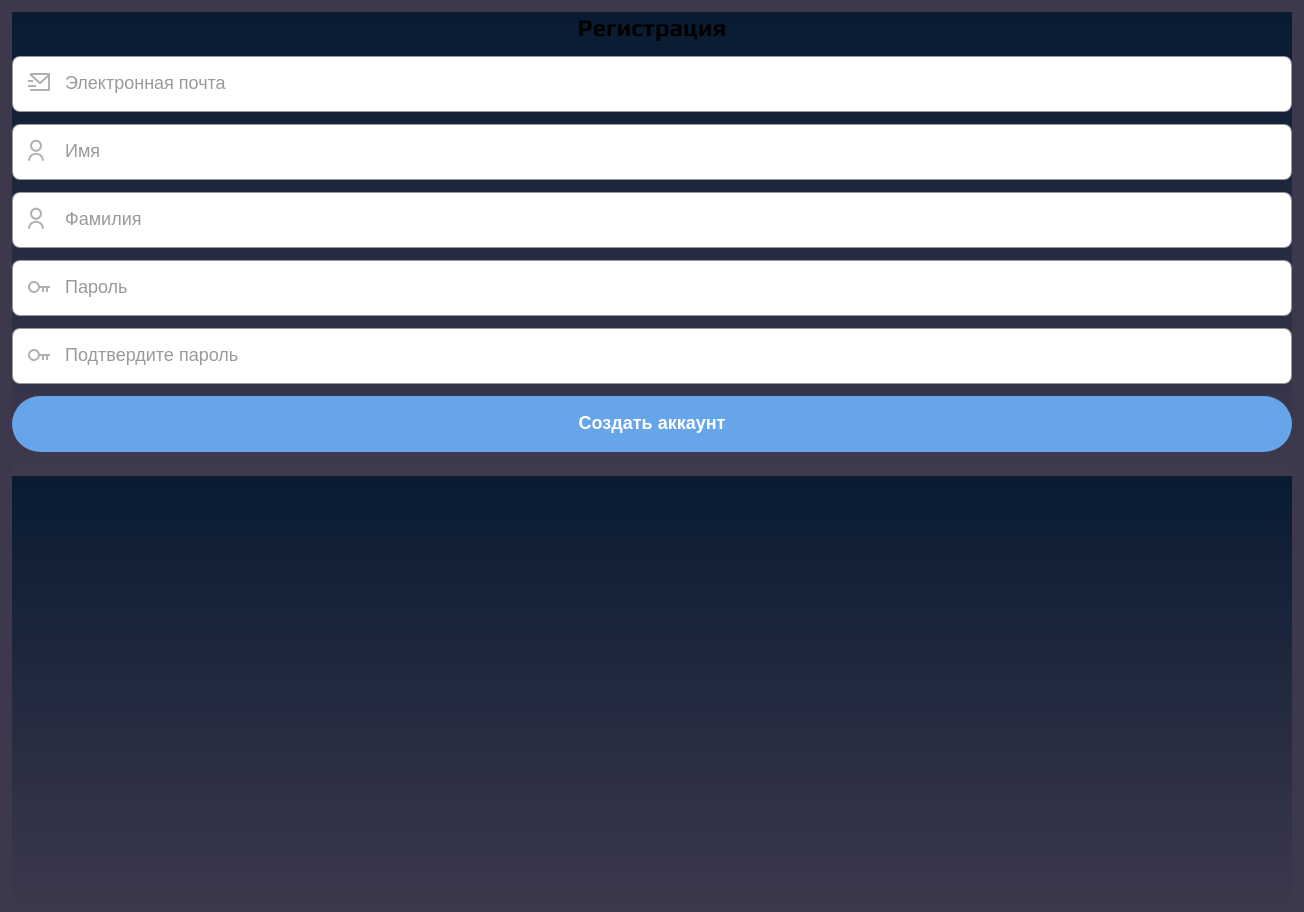
Test case: RegisterForm › shows validation error for incorrect email format
In the field with placeholder "Электронная почта": (652, 84) 12,56 -> 1292,112, type "invalid-email"
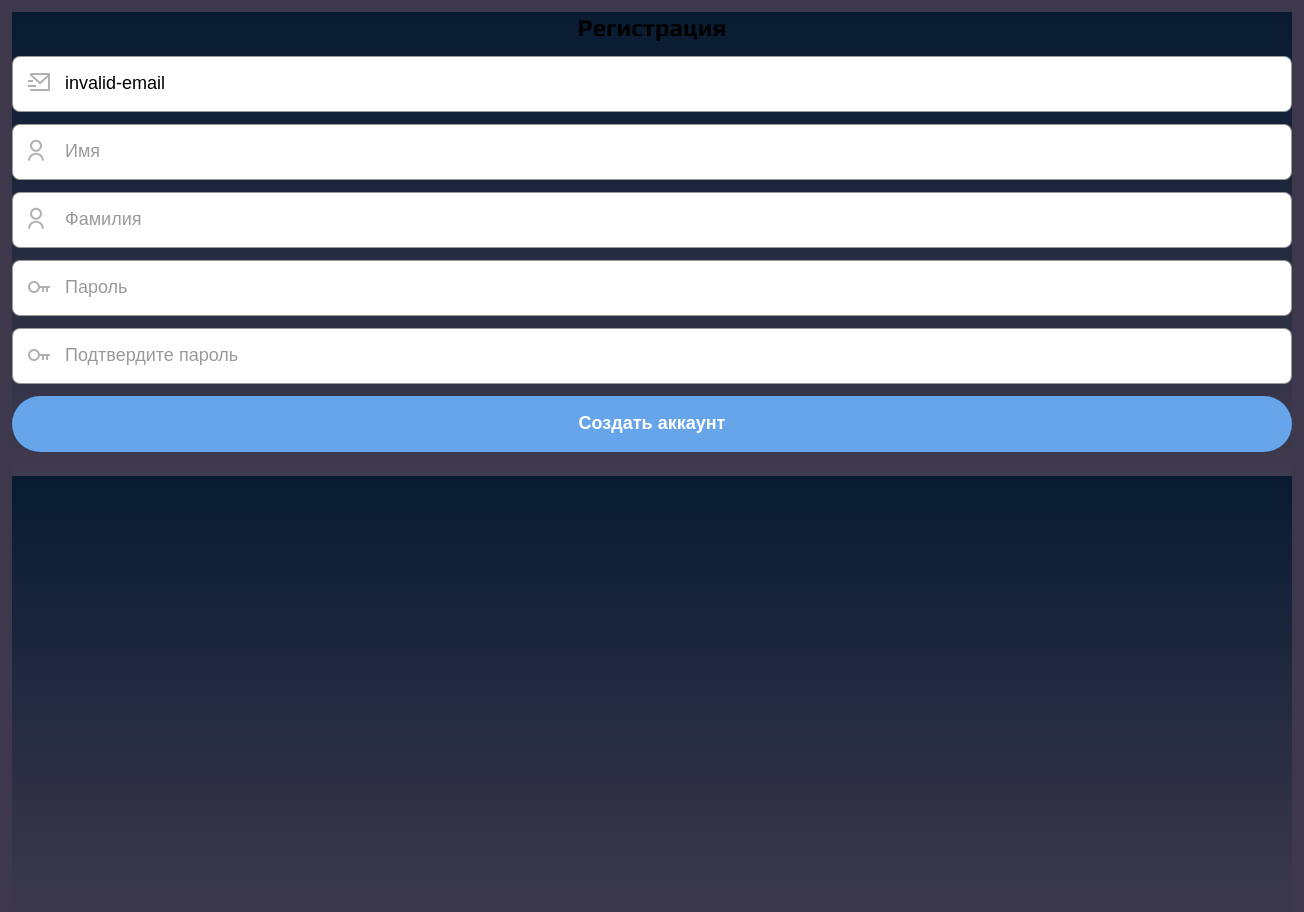
In the field with placeholder "Имя": (652, 152) 12,124 -> 1292,180, type "John"
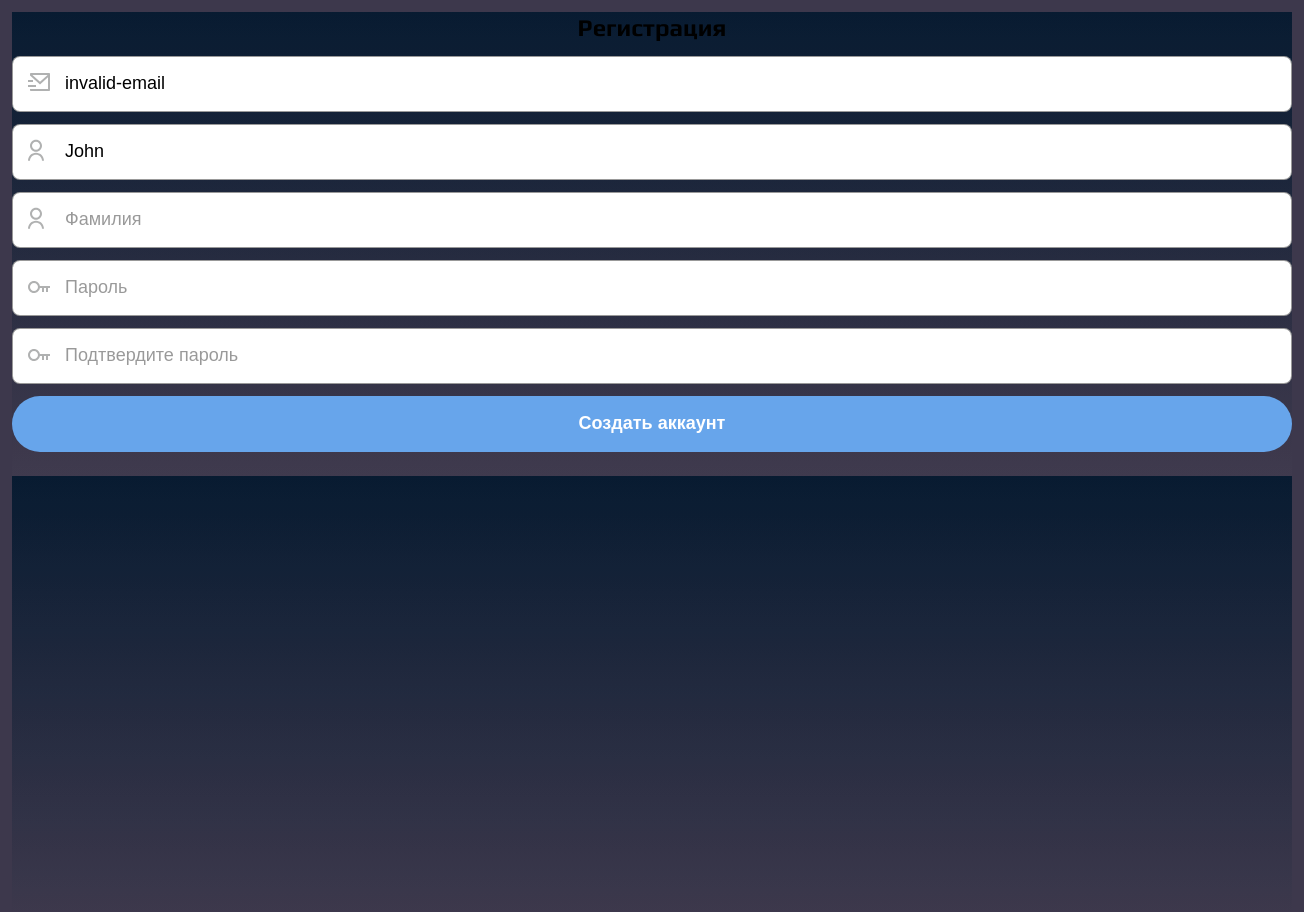
In the field with placeholder "Фамилия": (652, 220) 12,192 -> 1292,248, type "Doe"
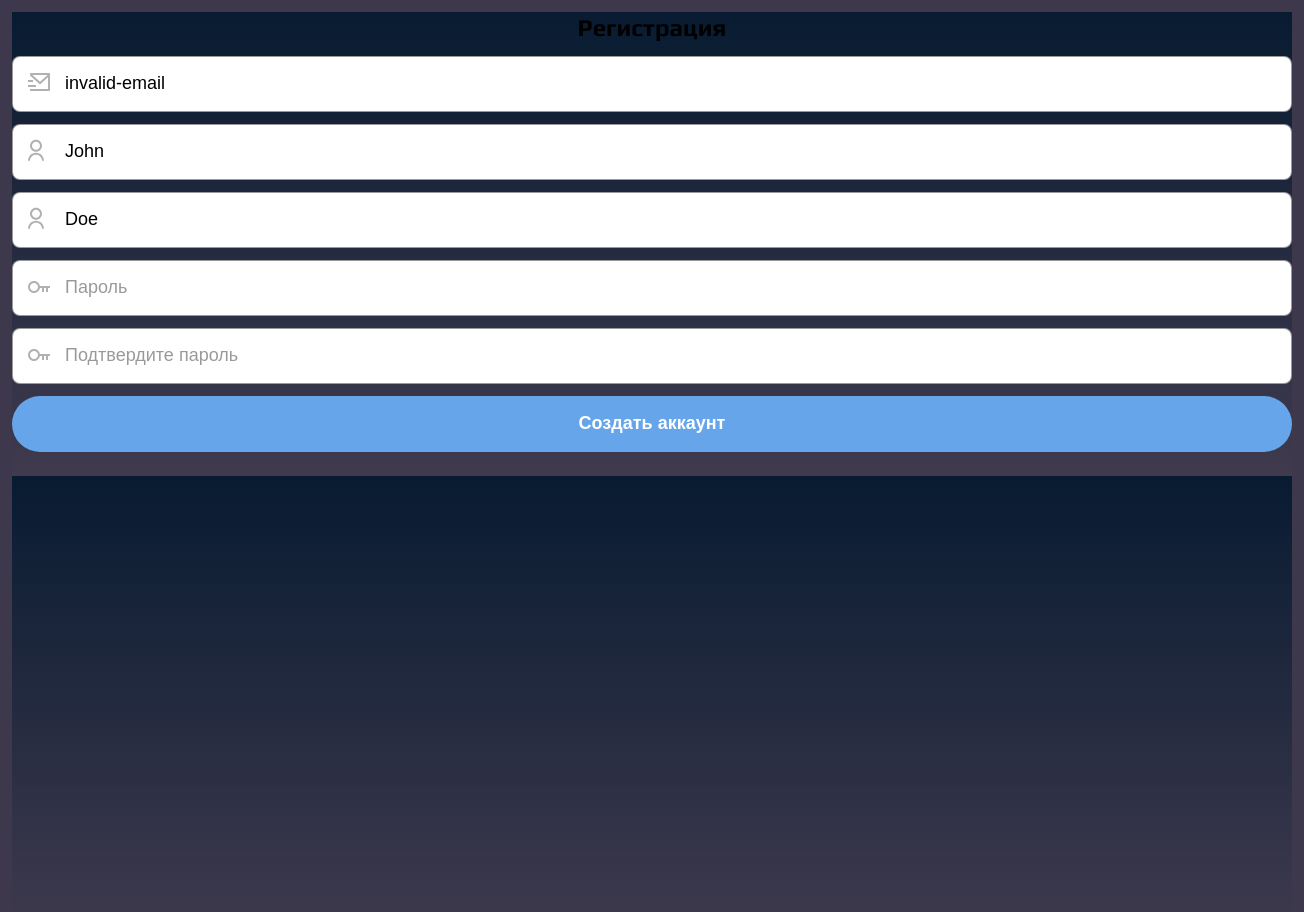
In the password field with placeholder "Пароль": (652, 288) 12,260 -> 1292,316, type "password123"
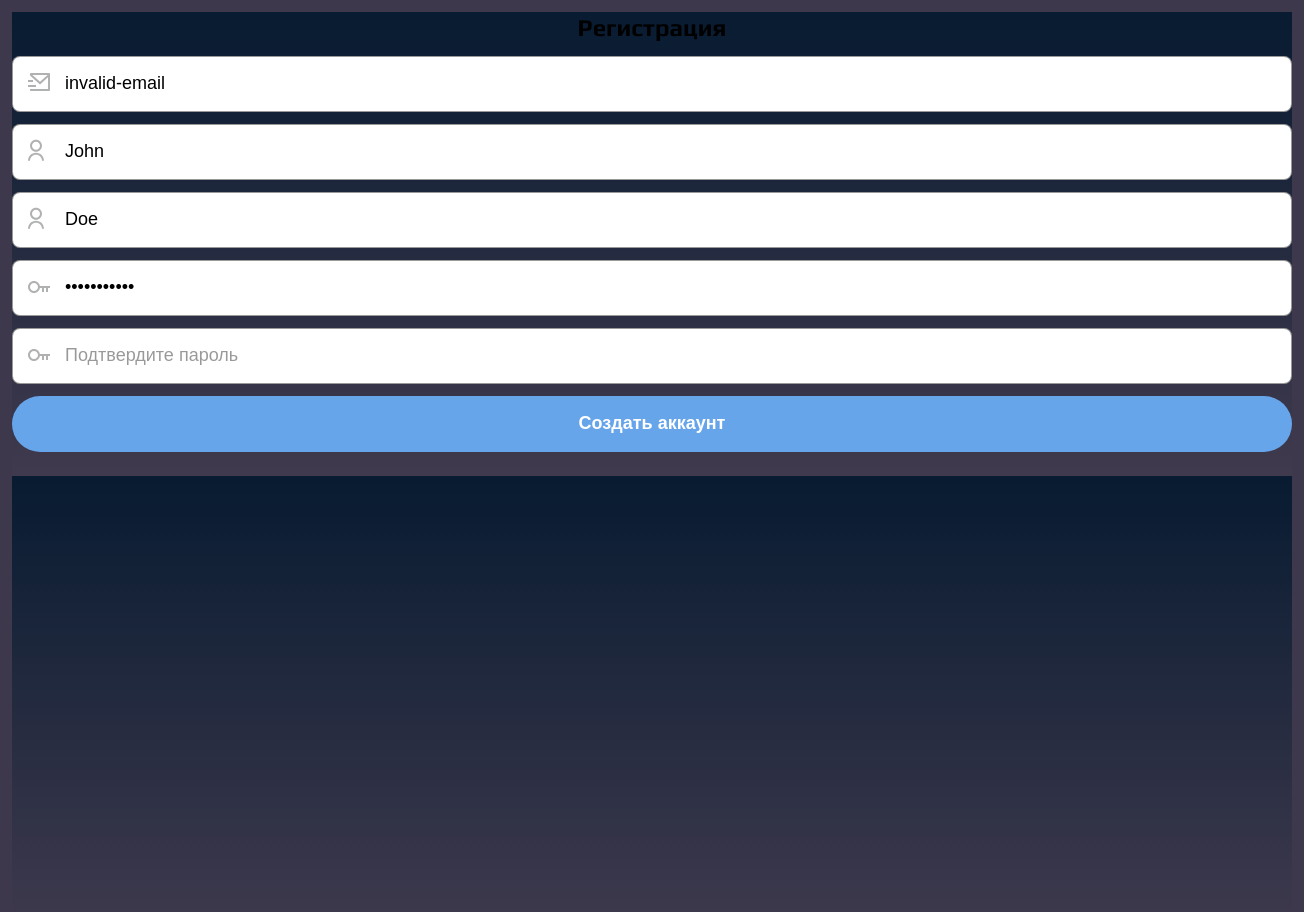
In the password field with placeholder "Подтвердите пароль": (652, 356) 12,328 -> 1292,384, type "password123"
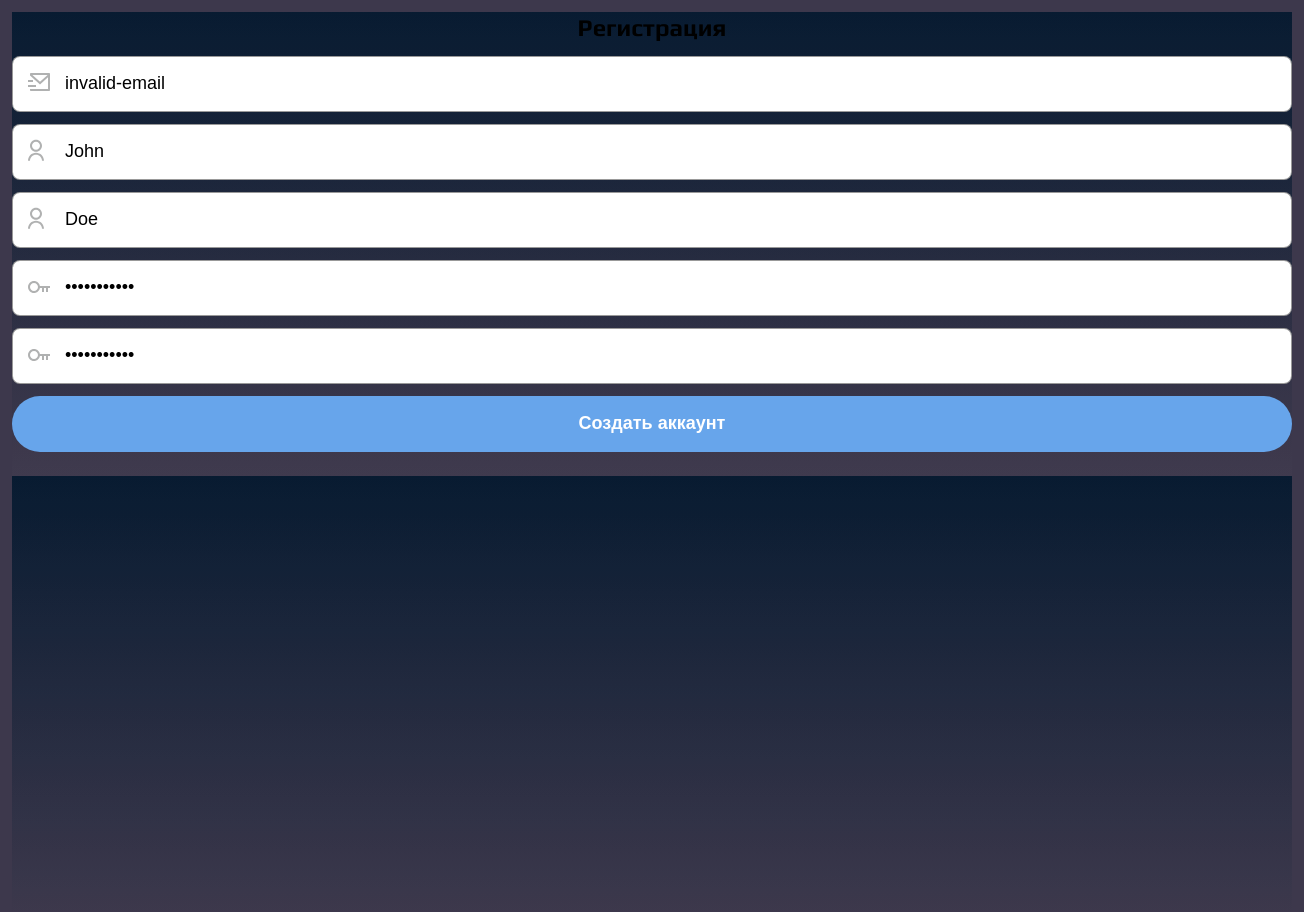
Click the button "Создать аккаунт": (652, 424) 12,396 -> 1292,452
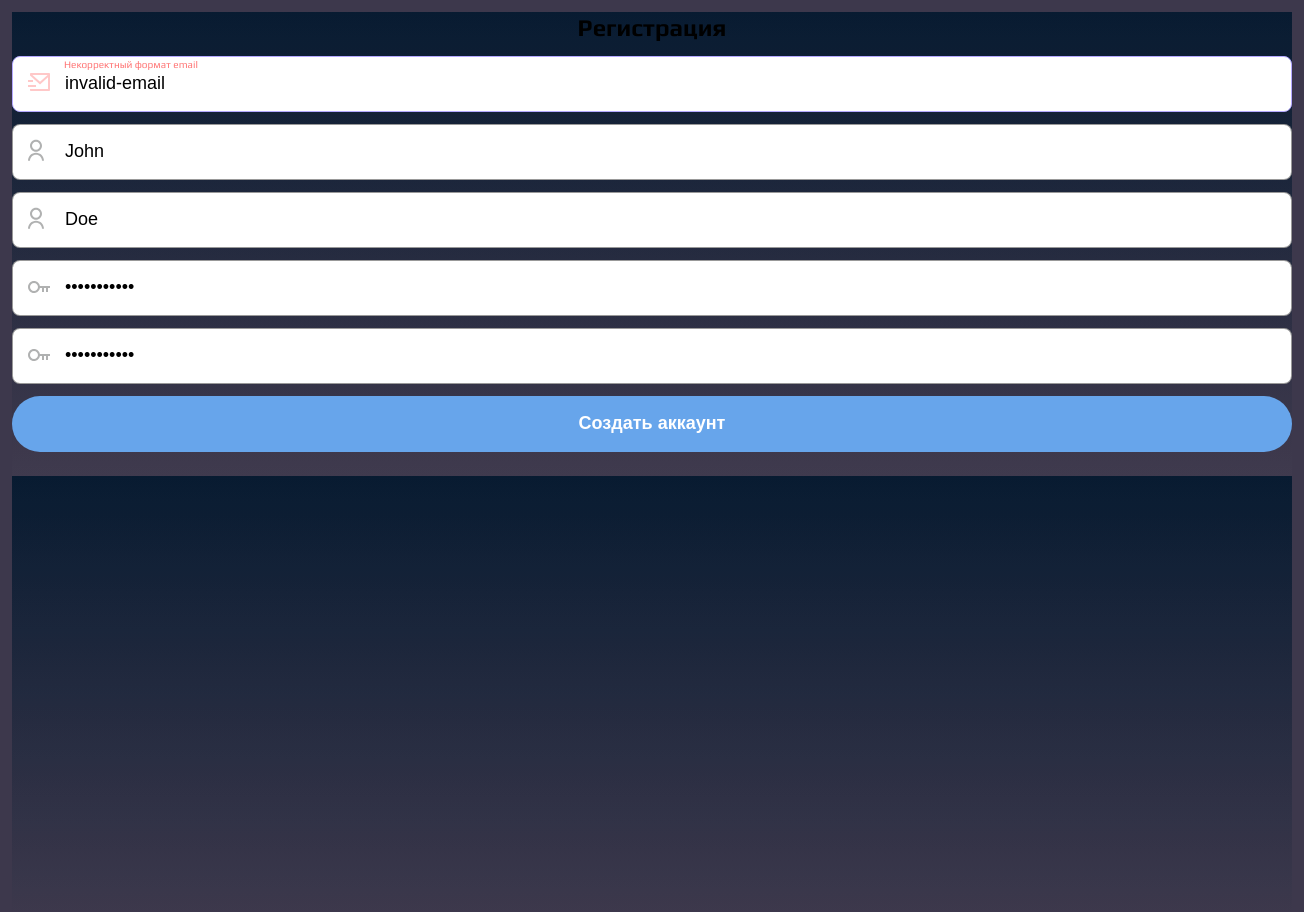
Now the text "Некорректный формат email" is shown, box 64,59 -> 198,70
